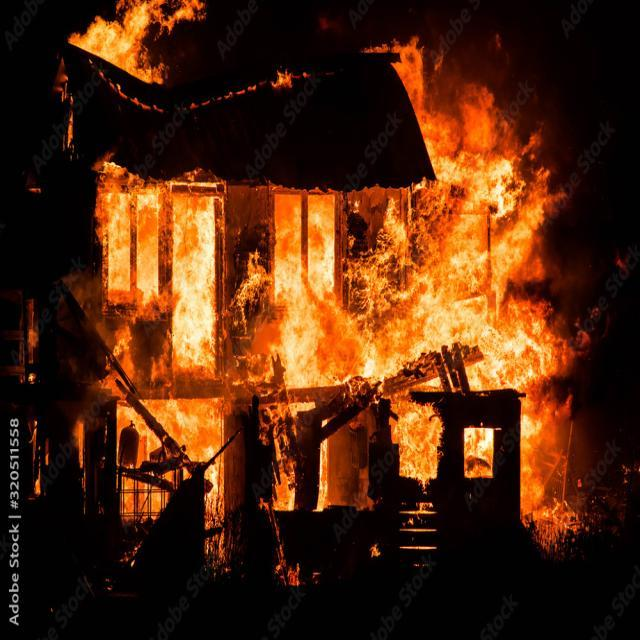Fire: (96, 180, 342, 416), (353, 184, 554, 471), (396, 42, 544, 178), (73, 1, 209, 85)
